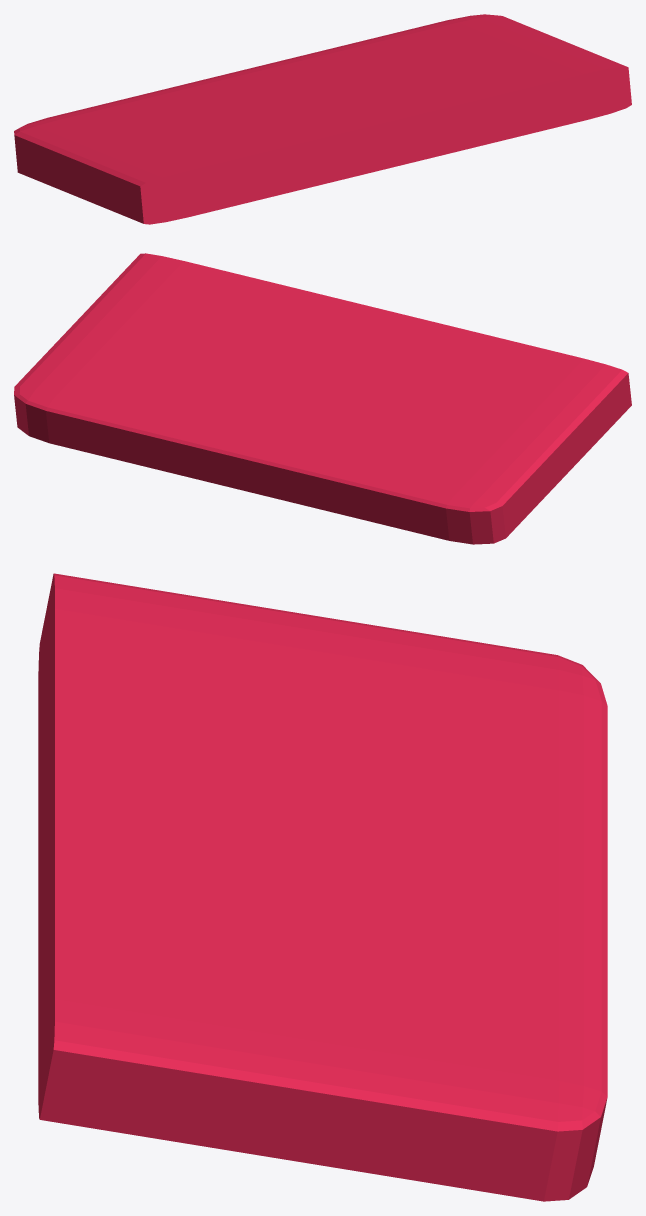
The model's file is house_roof_a01.glb.
3 renders of one model, top to bottom at view 1: azimuth 30°, elevation 25°; view 2: azimuth 150°, elevation 25°; view 3: azimuth 270°, elevation 25°, orthographic. The views are drawn at different scales.
Visible parts, largest first — view 1: Cube.157; view 2: Cube.157; view 3: Cube.157.
Part boxes in pixels (x1,y1,x2,y2): Cube.157: [14, 14, 631, 224]; Cube.157: [14, 253, 631, 544]; Cube.157: [38, 573, 607, 1201].
Size of the model in its own units: 2.05 by 0.3422 by 1.04.
